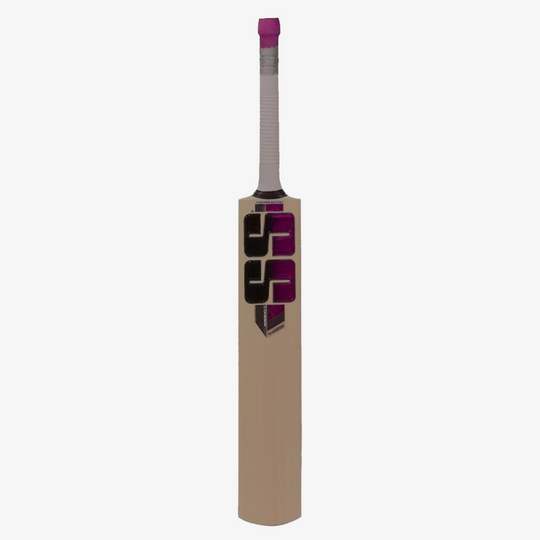bottom left: (224, 491, 256, 527)
bottom right: (283, 491, 325, 533)
top left: (232, 187, 258, 216)
top right: (286, 186, 322, 222)
